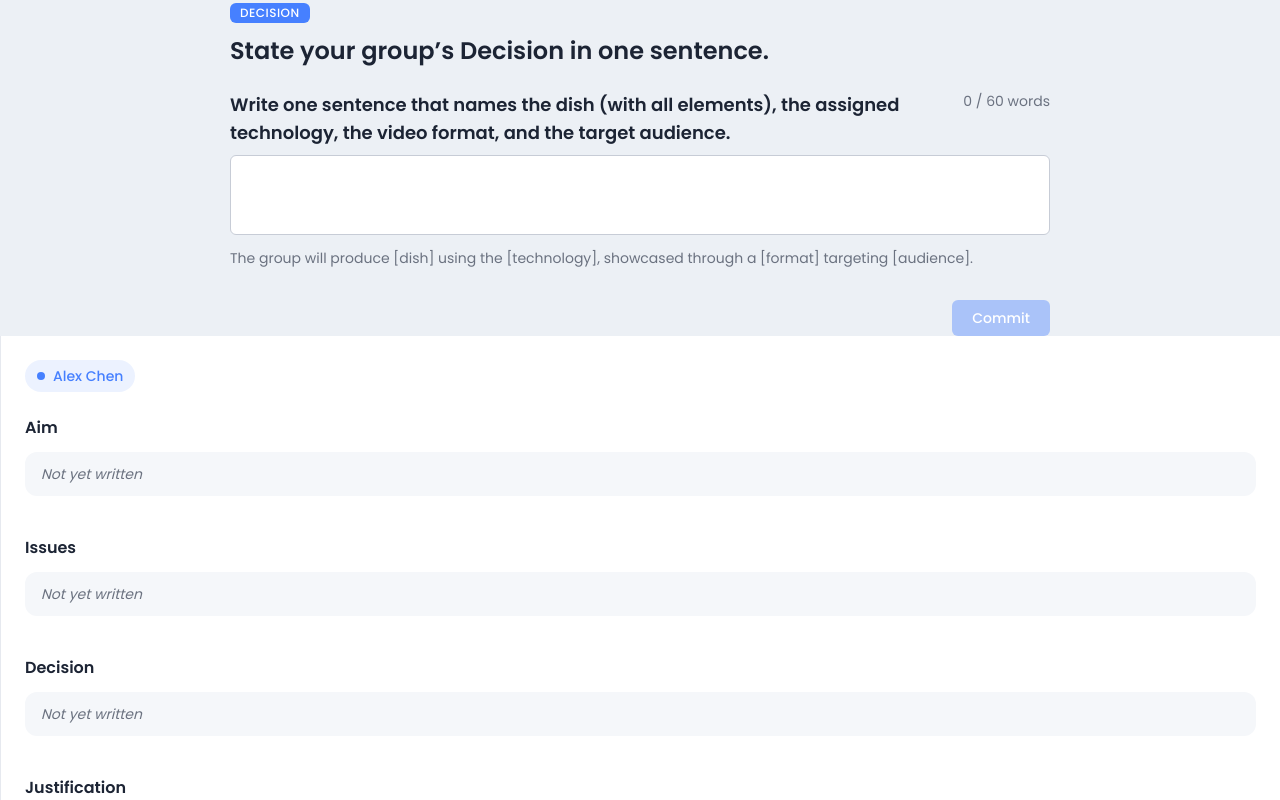
it: SlideScaffold — guided mode › the Action Plan panel shows Decision text after commit
The image size is (1280, 800).
Type "The group will produce custard French toast using the Thermomix." into the text box named "Write one sentence that names the dish (with all elements), the assigned technology, the video format, and the target au".
click(640, 195); type("The group will produce custard French toast using the Thermomix.")  # box [230,155,1050,235]
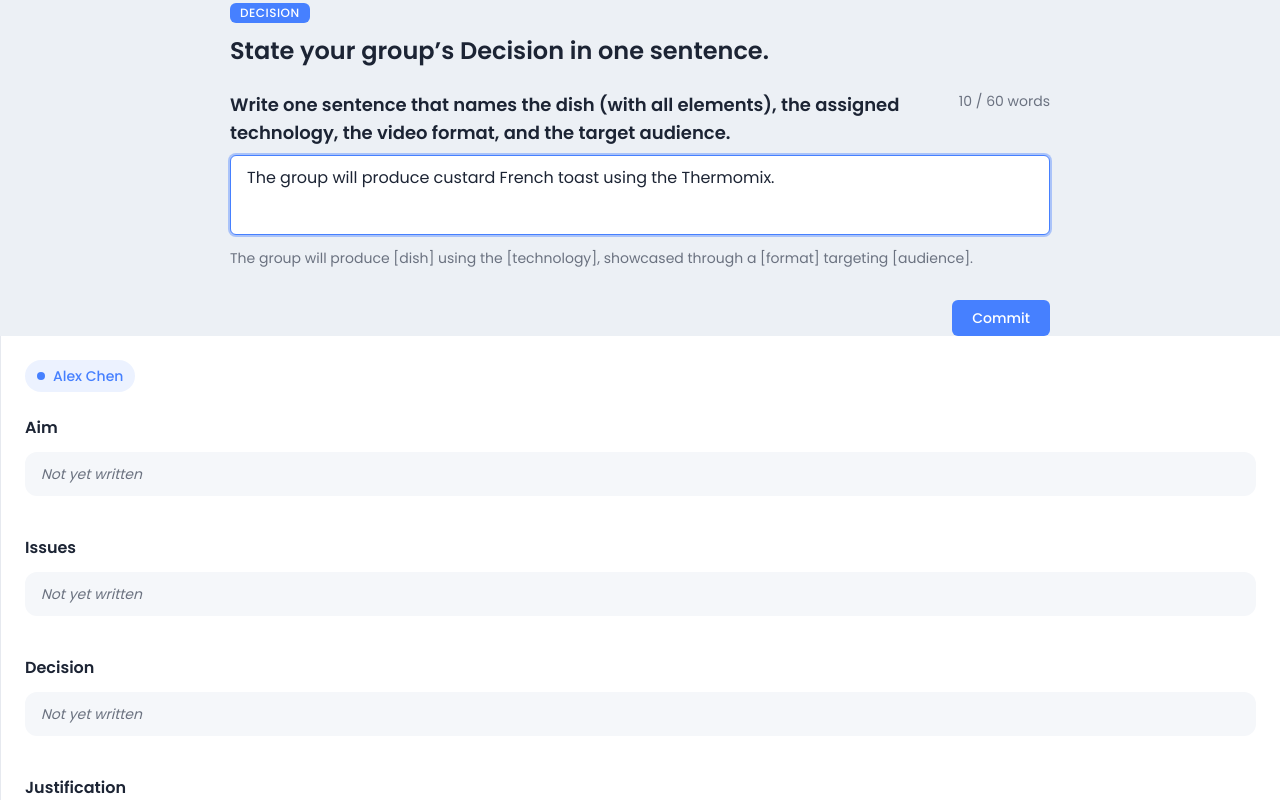
Click the button "Commit".
click(1001, 318)  # box [952,300,1050,336]
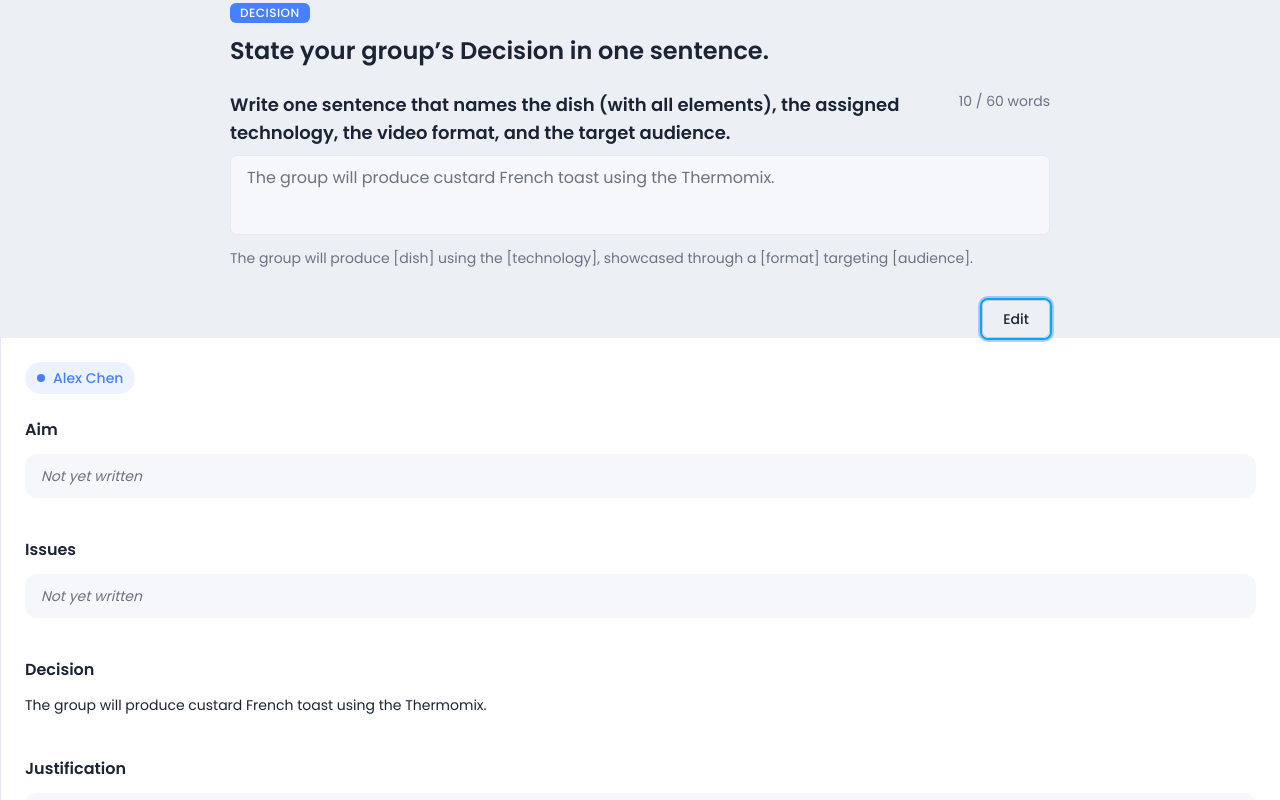
Check: the text "custard French toast" is shown, box [25,695,486,715]
